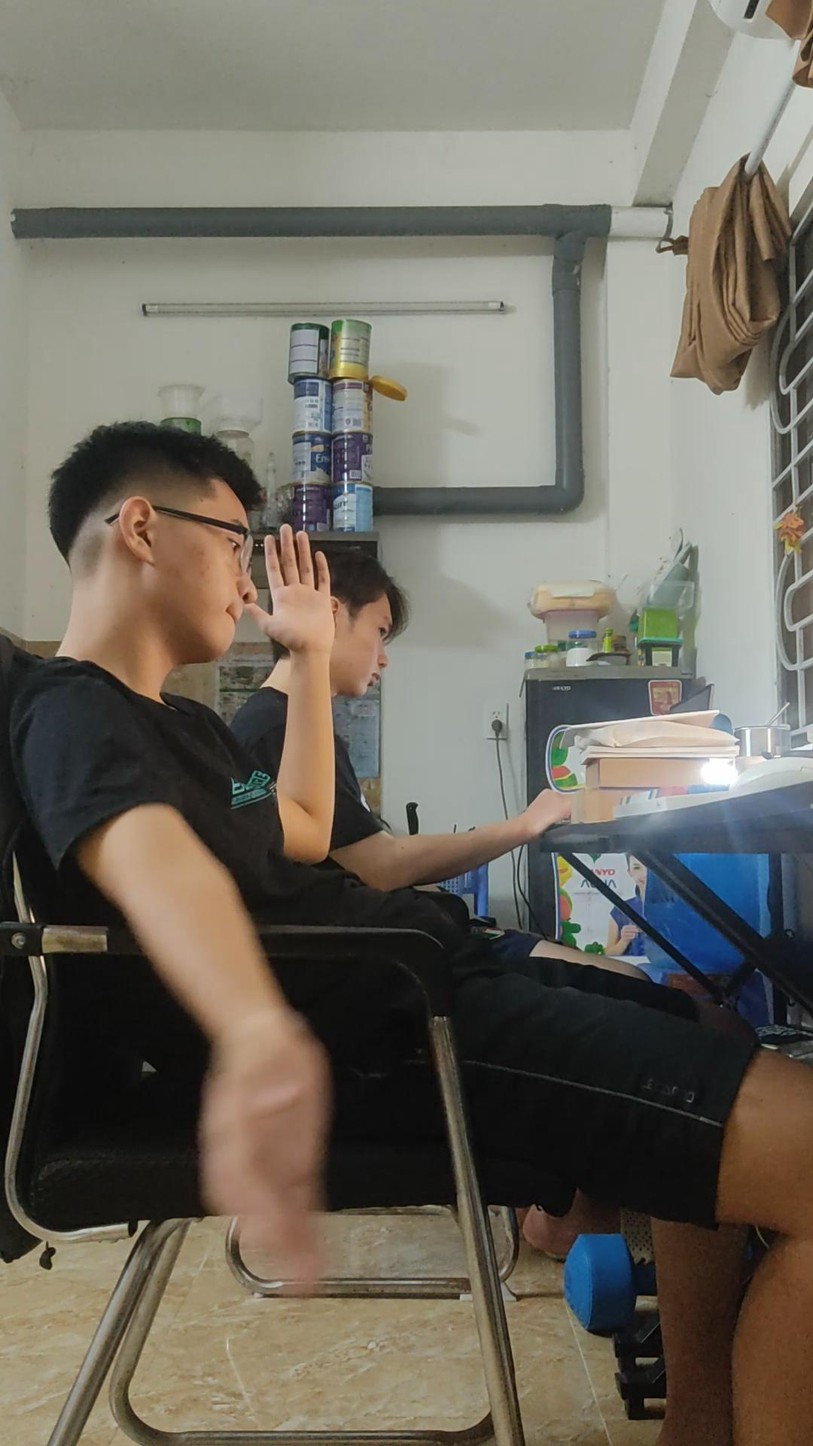BadPosture: (13, 423, 812, 1445)
